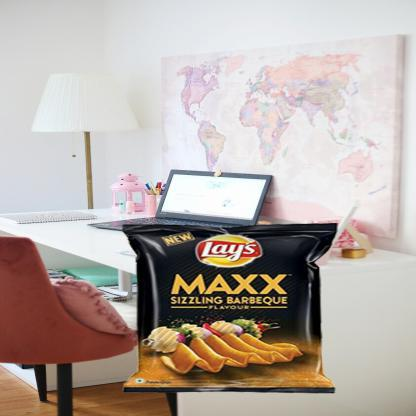maxx_sizzling_barbeque: (128, 225, 329, 392)
